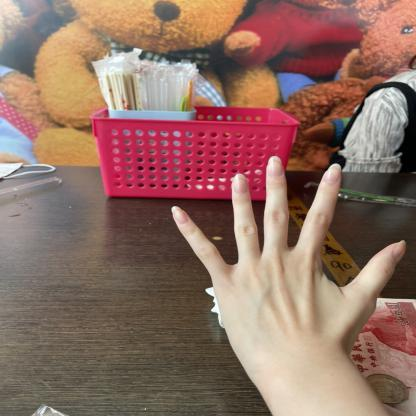bare_hand: (163, 149, 414, 362)
